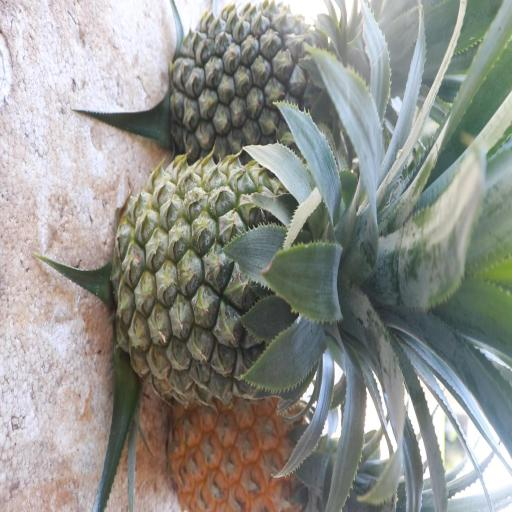------------------------------: (117, 163, 343, 399)
Pineapple - v8 v1: (170, 389, 342, 512)
